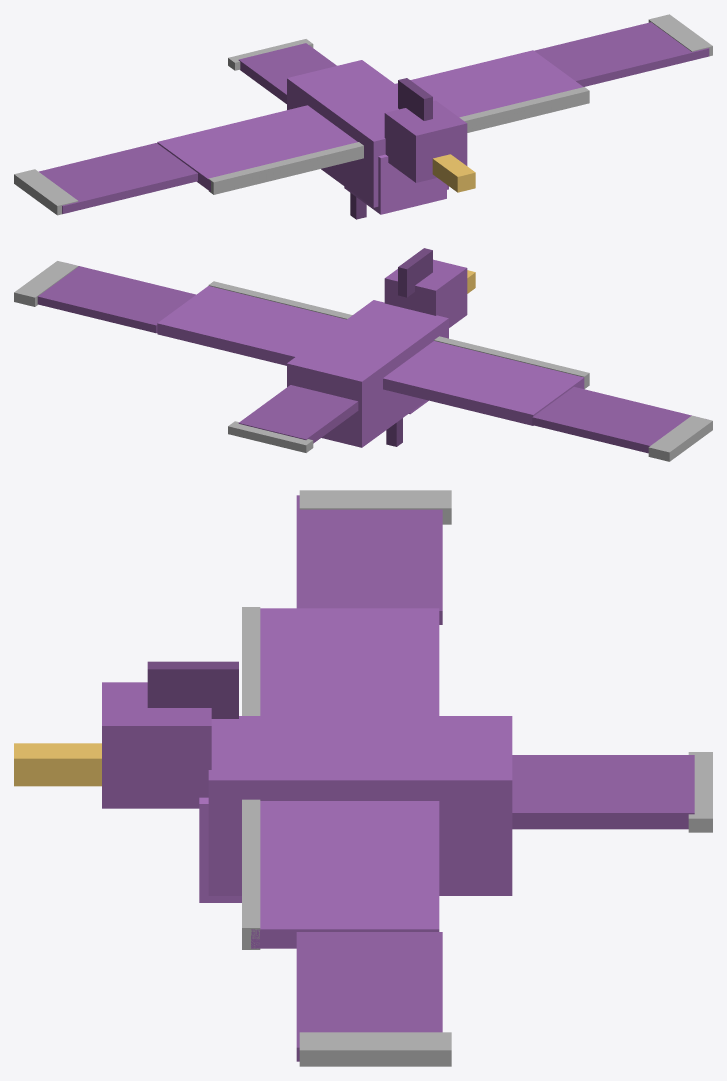
The model's file is raptor.glb.
3 renders of one model, top to bottom at view 1: azimuth 30°, elevation 25°; view 2: azimuth 150°, elevation 25°; view 3: azimuth 270°, elevation 25°, orthographic. The views are drawn at different scales.
Parts seen in each view (by area): view 1: raptor (×3), raptor*0.8 (×3), glow*0.3 (×3), raptor*0.9, raptor*1.15, glow*0.4 (×2), raptor*0.5 (×2), ce69926; view 2: raptor (×3), raptor*0.8 (×3), raptor*0.9, glow*0.3 (×3), glow*0.4 (×2), raptor*0.5 (×2); view 3: raptor (×3), raptor*0.8 (×3), raptor*0.9, glow*0.4 (×2), glow*0.3 (×3), raptor*0.5, ce69926, raptor*1.15.
Part boxes in pixels (box(x1,y1,x2,y2)): raptor (×3): box(157, 50, 582, 207); raptor*0.8 (×3): box(39, 22, 709, 213); glow*0.3 (×3): box(208, 39, 589, 194); raptor*0.9: box(384, 100, 467, 182); raptor*1.15: box(344, 154, 446, 214); glow*0.4 (×2): box(14, 14, 712, 215); raptor*0.5 (×2): box(350, 78, 432, 219); ce69926: box(432, 154, 475, 192); raptor (×3): box(157, 286, 584, 447); raptor*0.8 (×3): box(37, 266, 691, 453); raptor*0.9: box(384, 259, 467, 327); glow*0.3 (×3): box(208, 281, 589, 452); glow*0.4 (×2): box(14, 261, 712, 461); raptor*0.5 (×2): box(386, 248, 432, 446); raptor (×3): box(208, 608, 512, 948); raptor*0.8 (×3): box(296, 495, 694, 1061); raptor*0.9: box(102, 682, 211, 808); glow*0.4 (×2): box(299, 490, 451, 1066); glow*0.3 (×3): box(242, 607, 712, 949); raptor*0.5: box(147, 661, 238, 718); ce69926: box(14, 743, 101, 786); raptor*1.15: box(199, 797, 241, 902).
Bounding box in the file's own units: 4.36 × 0.965 × 2.3.
